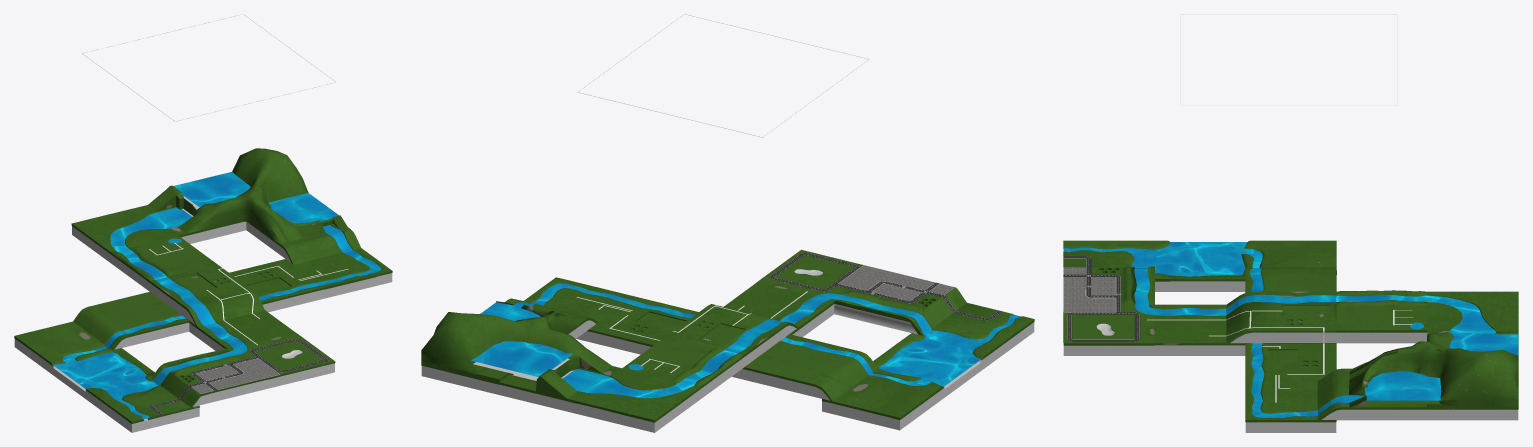
Rendered from ground_updated.fbx.
3 renders of one model, left to right at view 1: azimuth 30°, elevation 25°; view 2: azimuth 150°, elevation 25°; view 3: azimuth 270°, elevation 25°, orthographic. The views are drawn at different scales.
Visible parts, largest first — view 1: water (×8), grass01, grass14, grass11, grass10, grass02, grass21, grass27, grass26, grass15, grass23, grass28 (+21 smaller); view 2: water (×7), grass01, grass11, grass10, grass02, grass14, grass26, grass21, grass27, grass28, grass23, Sidewalk_Block (+16 smaller); view 3: water (×8), grass01, grass14, grass02, grass26, grass21, grass27, grass10, grass23, grass11, grass28, Sidewalk_Block (+16 smaller).
Boxes of the visible parts, <box> form: water (×8): <box>53,172,381,396</box>; grass01: <box>148,148,347,242</box>; grass14: <box>168,264,264,322</box>; grass11: <box>73,292,182,344</box>; grass10: <box>14,321,112,366</box>; grass02: <box>110,236,217,282</box>; grass21: <box>237,333,335,379</box>; grass27: <box>294,248,392,289</box>; grass26: <box>229,259,317,297</box>; grass15: <box>247,222,360,264</box>; grass23: <box>216,310,295,344</box>; grass28: <box>71,207,148,253</box>; water (×7): <box>471,283,982,398</box>; grass01: <box>421,301,611,398</box>; grass11: <box>742,340,868,401</box>; grass10: <box>822,368,944,420</box>; grass02: <box>622,336,744,389</box>; grass14: <box>667,304,772,349</box>; grass26: <box>589,303,689,346</box>; grass21: <box>757,249,863,296</box>; grass27: <box>524,277,633,331</box>; grass28: <box>577,386,699,422</box>; grass23: <box>724,282,813,320</box>; Sidewalk_Block: <box>839,265,954,300</box>; water (×8): <box>1131,242,1518,417</box>; grass01: <box>1349,331,1518,407</box>; grass14: <box>1226,302,1336,343</box>; grass02: <box>1336,290,1427,332</box>; grass26: <box>1261,343,1336,381</box>; grass21: <box>1063,304,1154,345</box>; grass27: <box>1245,381,1336,422</box>; grass10: <box>1241,240,1336,281</box>; grass23: <box>1154,315,1245,345</box>; grass11: <box>1260,267,1336,343</box>; grass28: <box>1427,291,1518,330</box>; Sidewalk_Block: <box>1064,267,1115,311</box>.
Size of the model in its own units: 5322 by 3774 by 5320.
